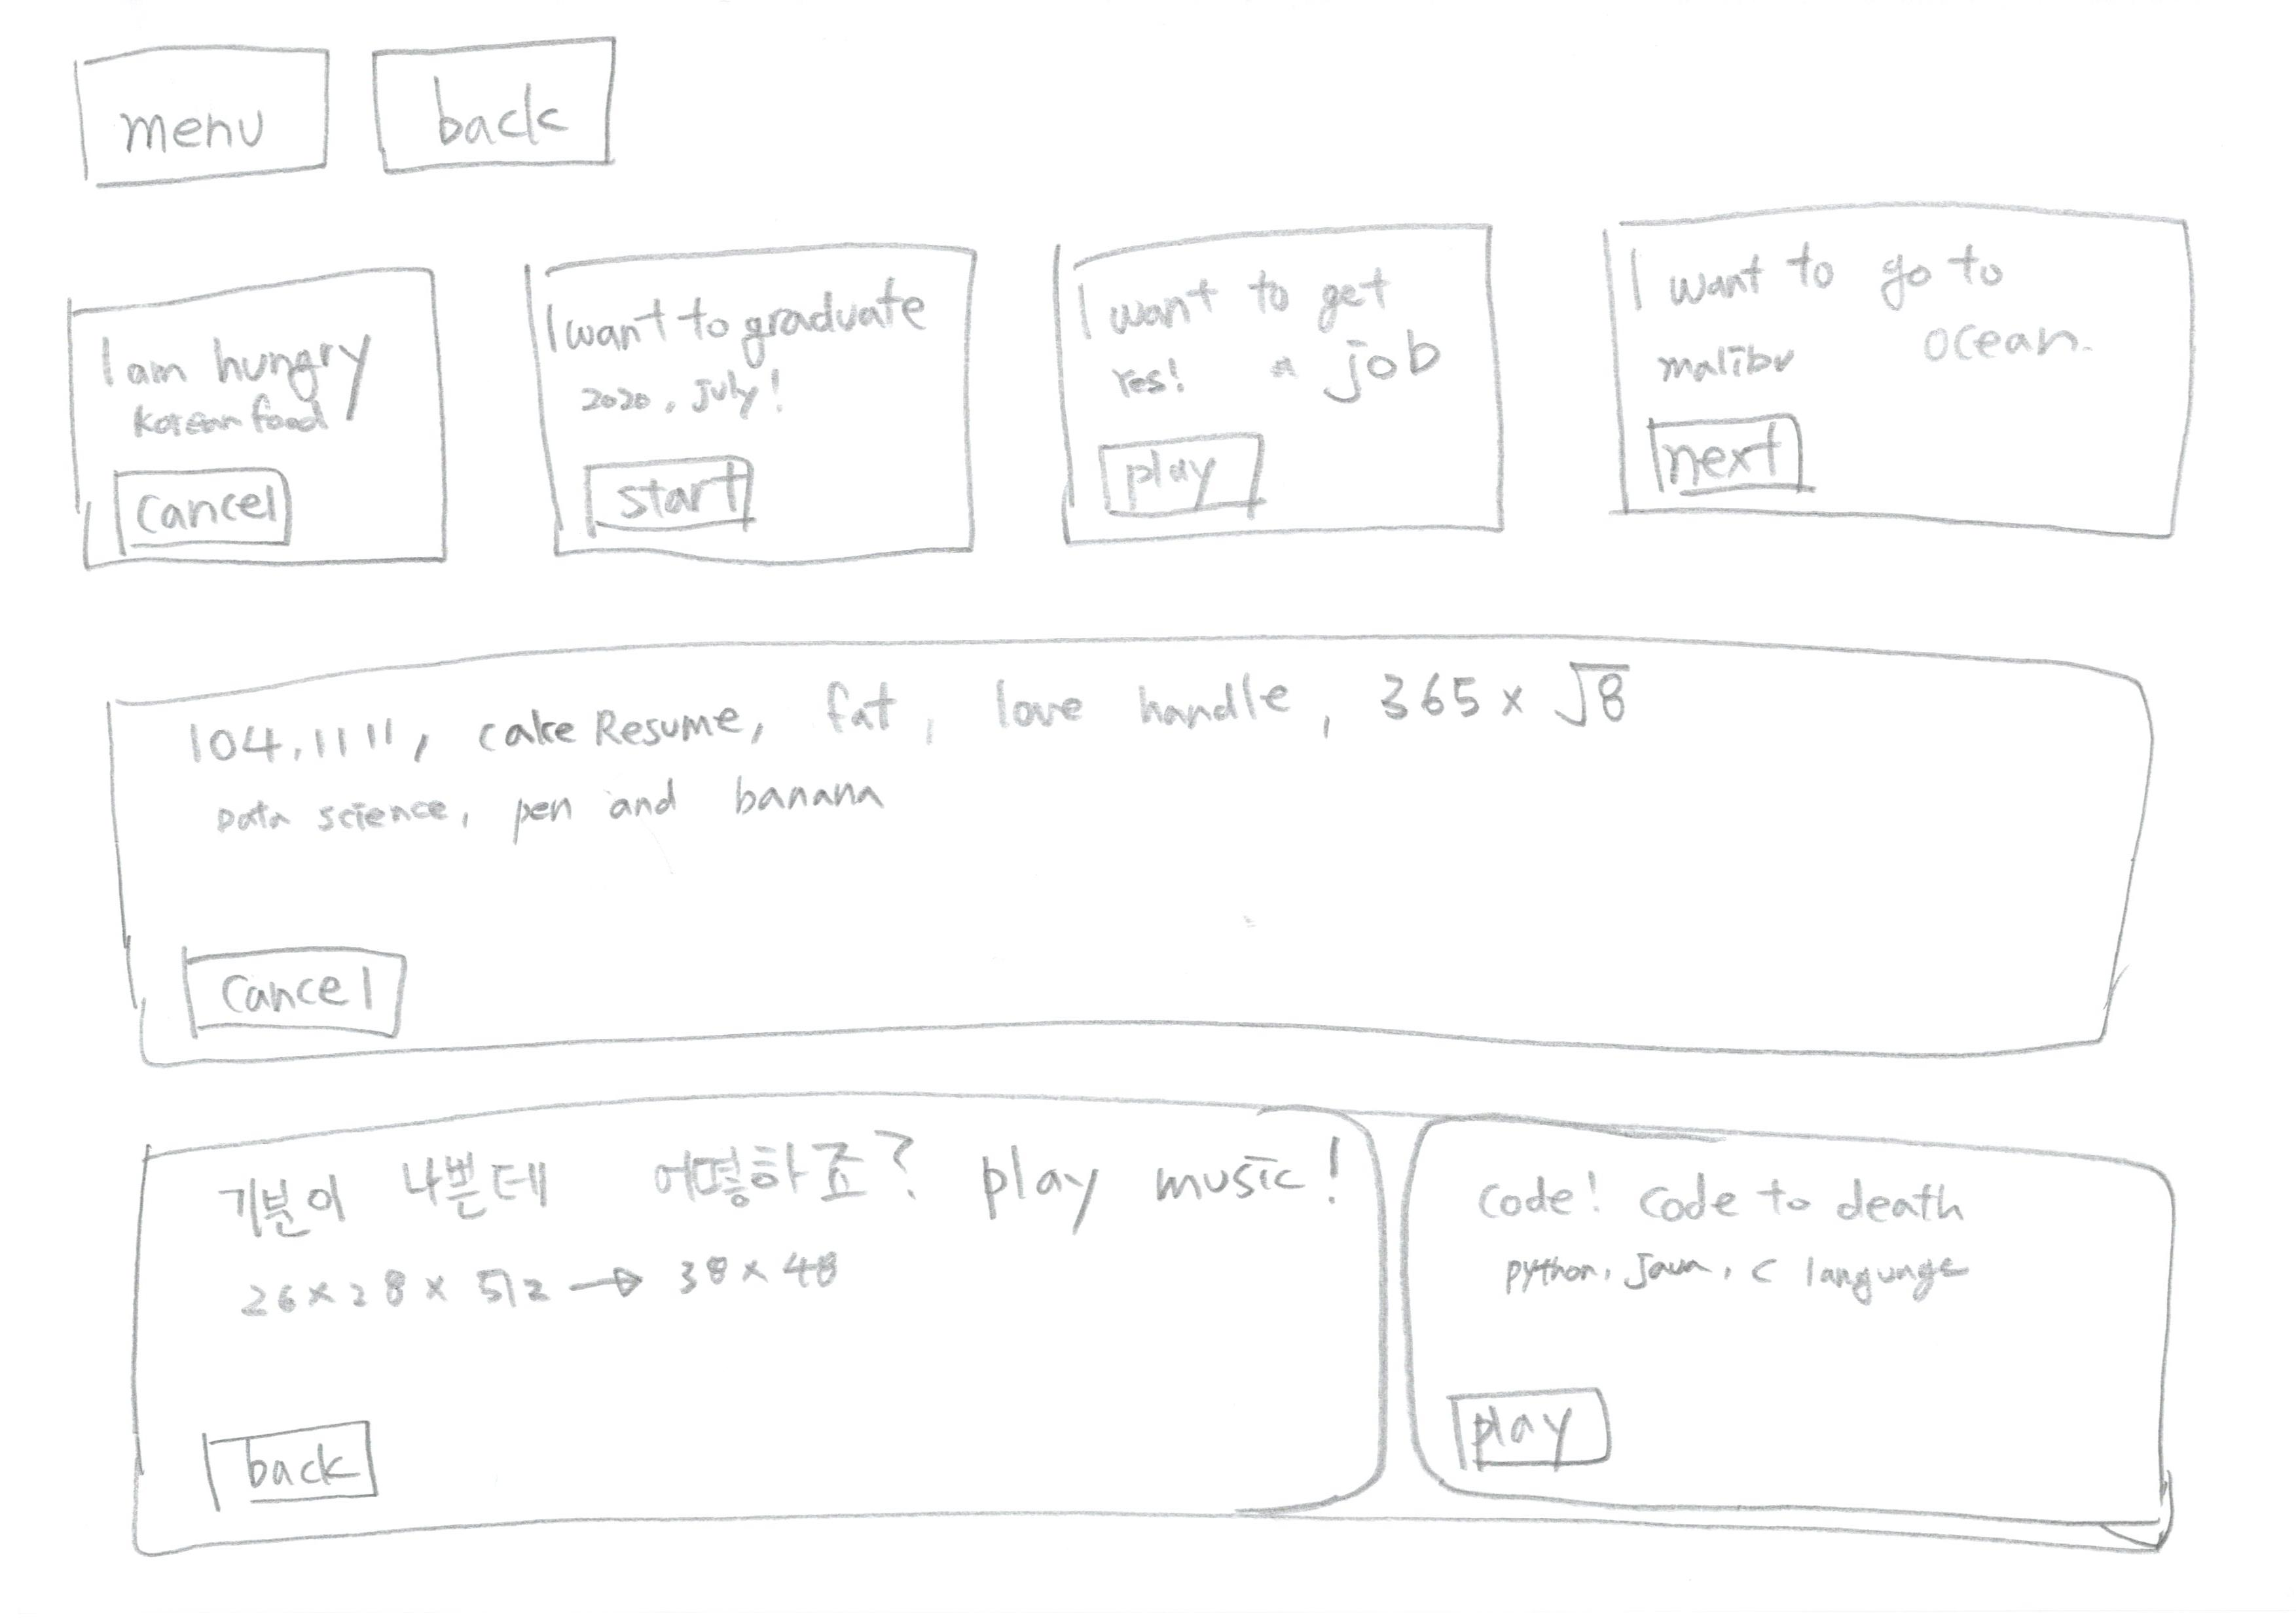back: (362, 21, 649, 197), (178, 1399, 401, 1529)
cancel: (162, 912, 459, 1055), (86, 464, 306, 564)
double: (37, 1084, 1406, 1594), (1380, 1079, 2296, 1573)
menu: (54, 26, 350, 211)
next: (1644, 394, 1834, 520)
play: (1442, 1357, 1647, 1508), (1085, 420, 1289, 545)
quadruple: (1575, 183, 2233, 569), (501, 230, 1018, 598), (1030, 211, 1547, 578), (37, 244, 471, 613)
row: (5, 582, 2296, 1097), (5, 1088, 2296, 1603), (5, 202, 2296, 601), (19, 5, 2296, 211)
single: (39, 619, 2215, 1114)
small-title: (169, 678, 1633, 763), (227, 1144, 1341, 1243), (1457, 1139, 1995, 1225), (1633, 236, 2115, 313), (541, 269, 934, 346), (1079, 267, 1426, 336), (95, 334, 362, 383)
start: (575, 446, 784, 548)
text: (1493, 1223, 2032, 1346), (213, 777, 976, 847), (223, 1250, 916, 1322), (1631, 318, 2152, 388), (1095, 337, 1463, 418), (120, 380, 359, 450), (559, 378, 809, 424)
